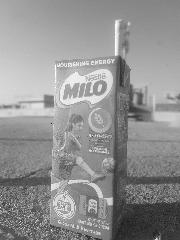paper: (50, 55, 130, 239)
